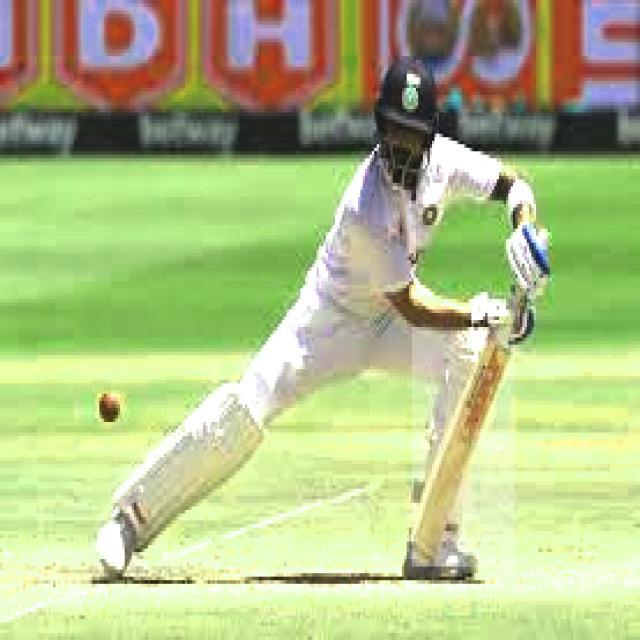bat: (408, 323, 506, 569)
toe: (407, 540, 443, 567)
